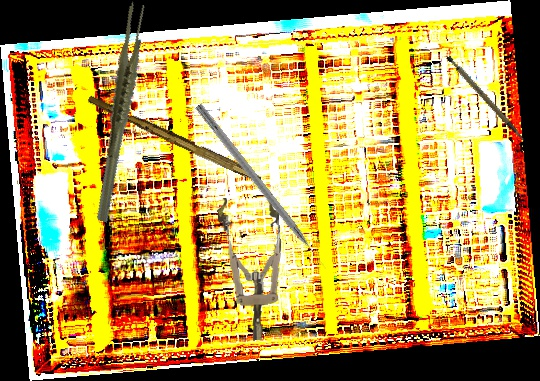Hook Surgical: (193, 102, 330, 273)
Scalpel Handle: (85, 93, 265, 184), (444, 47, 526, 152)
Speculum: (216, 194, 288, 343)
Tissue Forceps: (56, 0, 183, 224)
